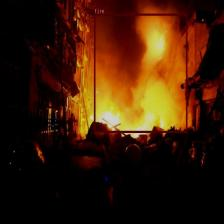fire: (94, 13, 187, 133)
